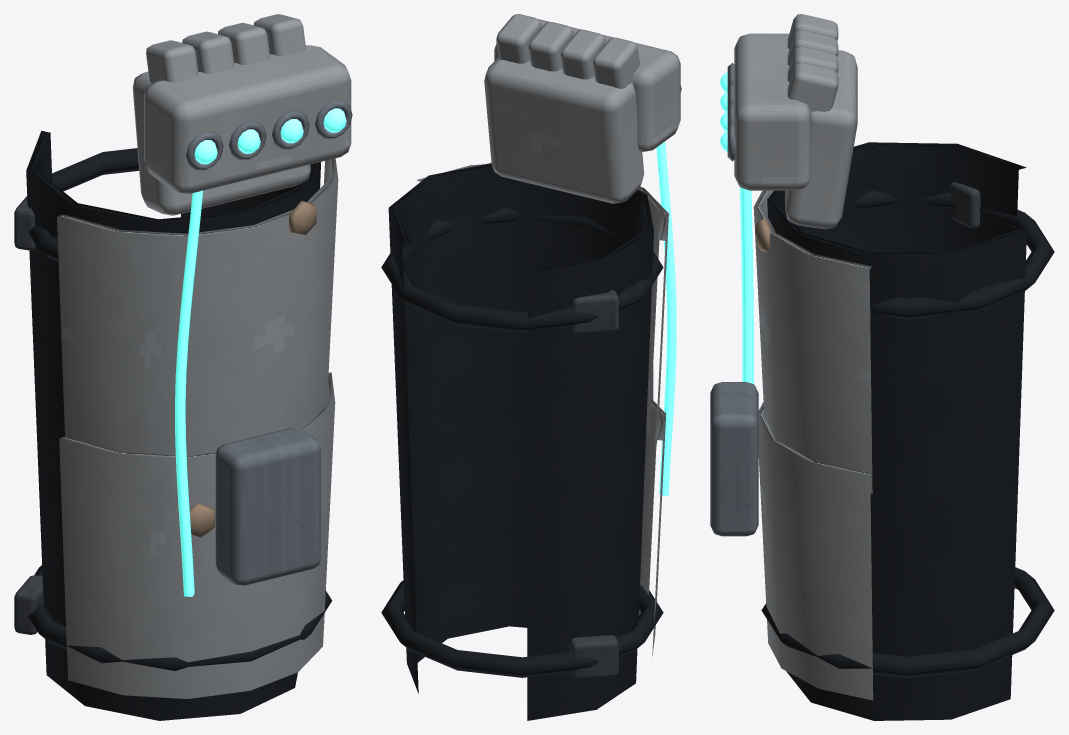
File: energy-gauntlet.lod2.glb
3 renders of one model, left to right at view 1: azimuth 30°, elevation 25°; view 2: azimuth 150°, elevation 25°; view 3: azimuth 270°, elevation 25°, orthographic. The views are drawn at different scales.
Parts seen in each view (by area): view 1: ceramic / ceramic composite panel, polymer / stippled polymer, alloy / machined anodized alloy, energy / emissive field channel, darksteel / oil-blackened fittings, glaze bead; view 2: polymer / stippled polymer, ceramic / ceramic composite panel, darksteel / oil-blackened fittings, energy / emissive field channel; view 3: polymer / stippled polymer, ceramic / ceramic composite panel, alloy / machined anodized alloy, energy / emissive field channel, darksteel / oil-blackened fittings.
Part boxes in pixels (x1,y1,x2,y2): ceramic / ceramic composite panel: (57,14,351,698); polymer / stippled polymer: (26,130,332,720); alloy / machined anodized alloy: (186,100,352,585); energy / emissive field channel: (175,108,346,596); darksteel / oil-blackened fittings: (14,196,43,634); glaze bead: (189,200,316,537); polymer / stippled polymer: (381,163,663,720); ceramic / ceramic composite panel: (416,14,680,656); darksteel / oil-blackened fittings: (569,290,618,679); energy / emissive field channel: (656,141,676,496); polymer / stippled polymer: (761,142,1054,720); ceramic / ceramic composite panel: (734,14,873,700); alloy / machined anodized alloy: (710,63,758,536); energy / emissive field channel: (720,71,753,383); darksteel / oil-blackened fittings: (949,182,980,228).
Bounding box in the file's own units: 0.155 × 0.3596 × 0.1785.
6 materials, 4 textured.
